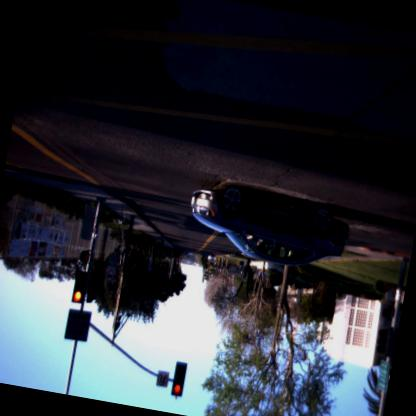trafficlight: (166, 360, 188, 398), (68, 273, 87, 305)
